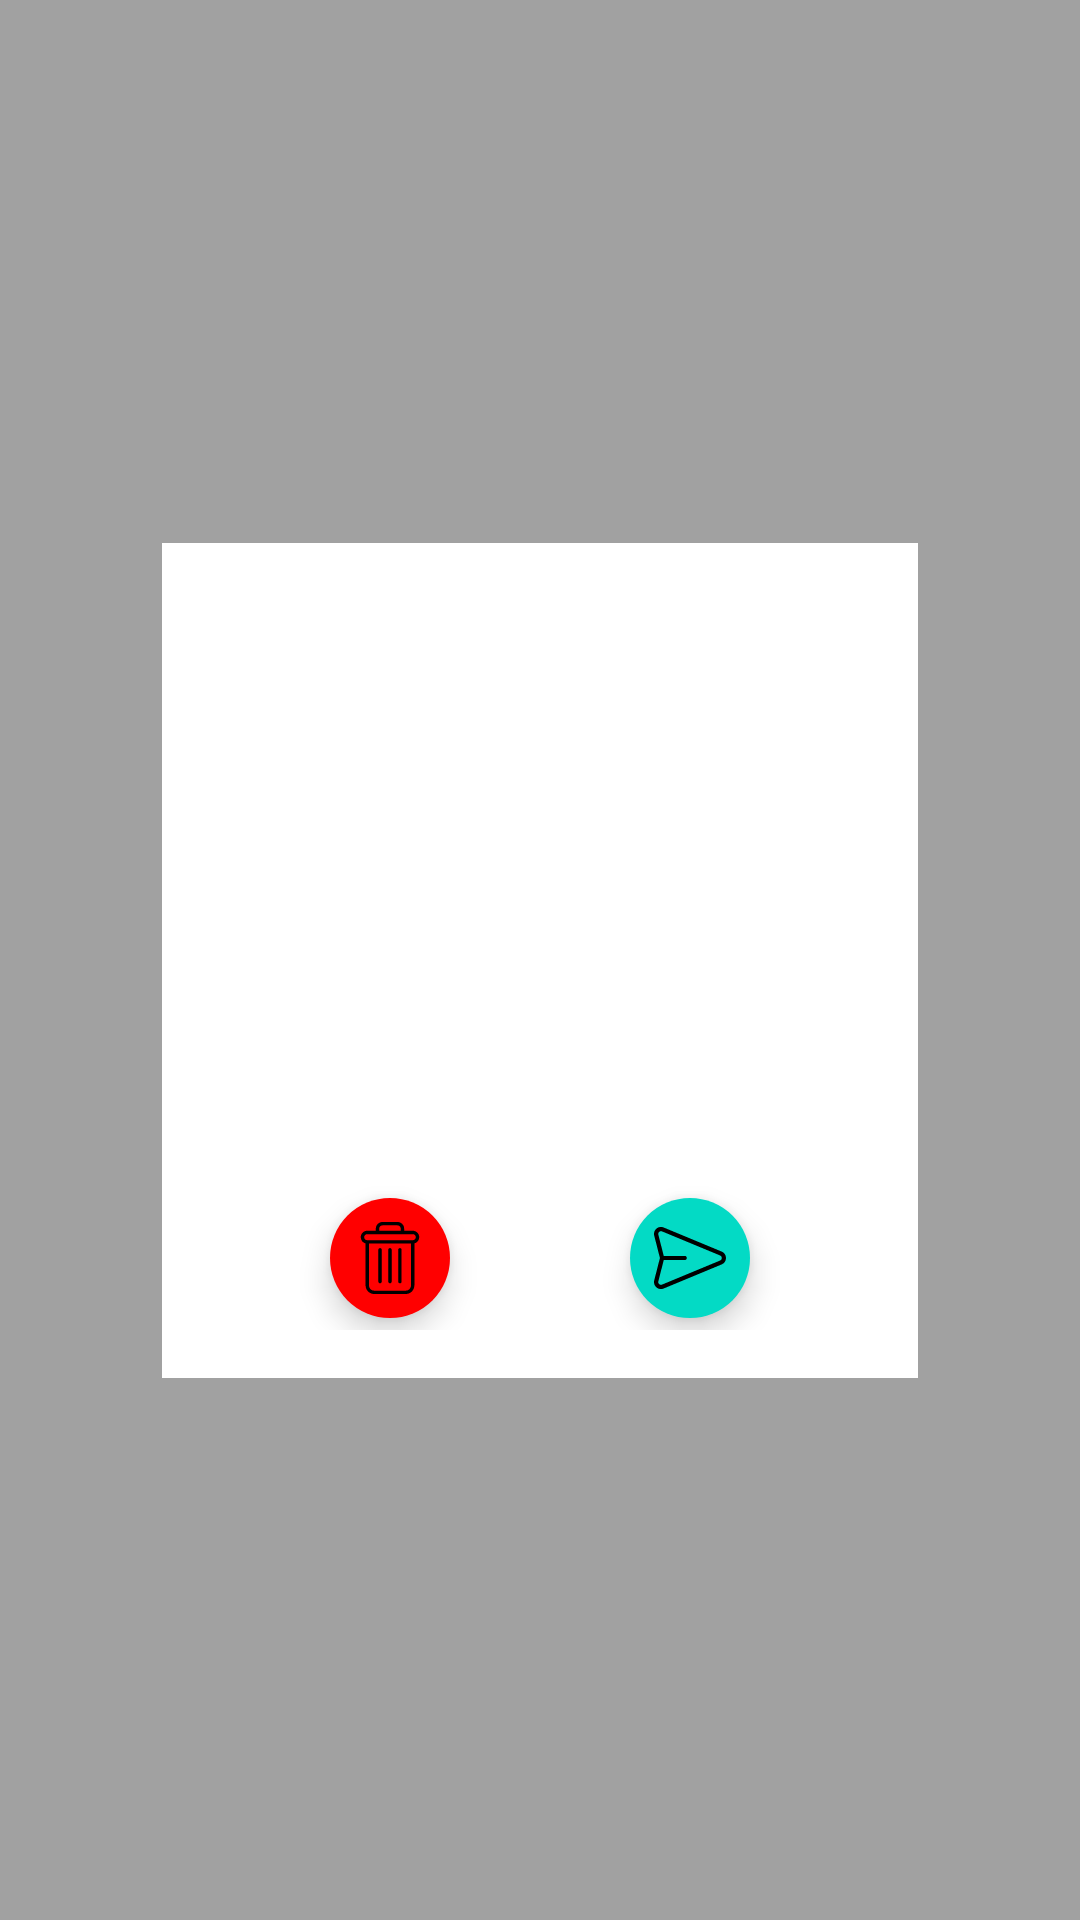

Icon click points for this 1080px x 1920px phone screenshot, format (x=x, y=y):
delete: (x=389, y=1263)
send: (x=690, y=1263)
